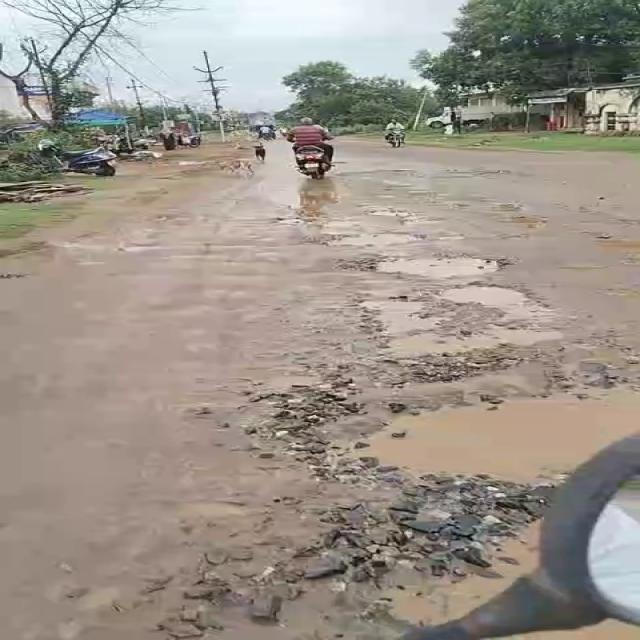pothole: (311, 387, 640, 475), (380, 531, 540, 610), (364, 324, 564, 350), (363, 254, 523, 282), (433, 288, 533, 310), (360, 312, 450, 336), (270, 181, 348, 208), (178, 497, 246, 520), (359, 297, 432, 317), (315, 236, 436, 248), (500, 306, 565, 324), (596, 236, 638, 256), (117, 242, 176, 256), (278, 210, 312, 230), (360, 210, 424, 220), (500, 216, 544, 230), (486, 204, 534, 216), (443, 169, 514, 177), (370, 178, 412, 188), (325, 219, 368, 228), (456, 200, 478, 210)
